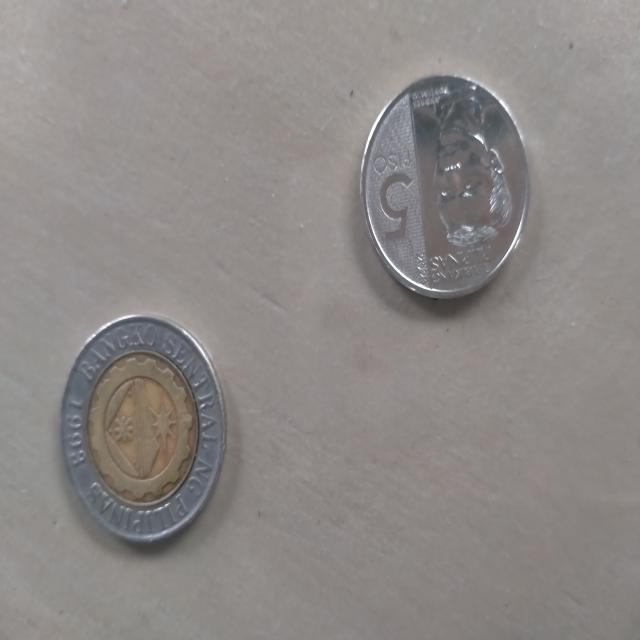10_Old_Back: (58, 320, 220, 546)
5_New_Front: (364, 146, 420, 247)
